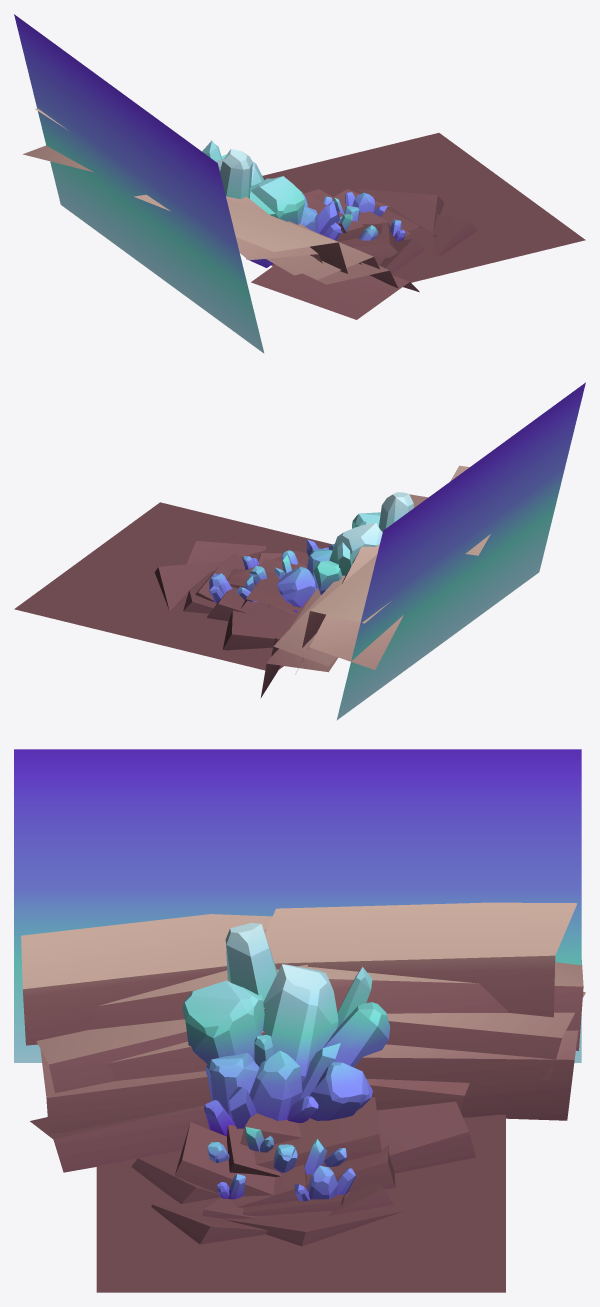
The model's file is lev_5.fbx.
The picture shows the model from 3 angles, top to bottom: view 1: azimuth 30°, elevation 25°; view 2: azimuth 150°, elevation 25°; view 3: azimuth 270°, elevation 25°; orthographic projection. The views are drawn at different scales.
Parts seen in each view (by area): view 1: lev_gra_6; view 2: lev_gra_6; view 3: lev_gra_6.
Part boxes in pixels (x1,y1,x2,y2): lev_gra_6: [14, 14, 585, 353]; lev_gra_6: [14, 382, 585, 720]; lev_gra_6: [14, 749, 585, 1292].
Bounding box in the file's own units: 26746 × 14670 × 23887.
1 material, 1 textured.
